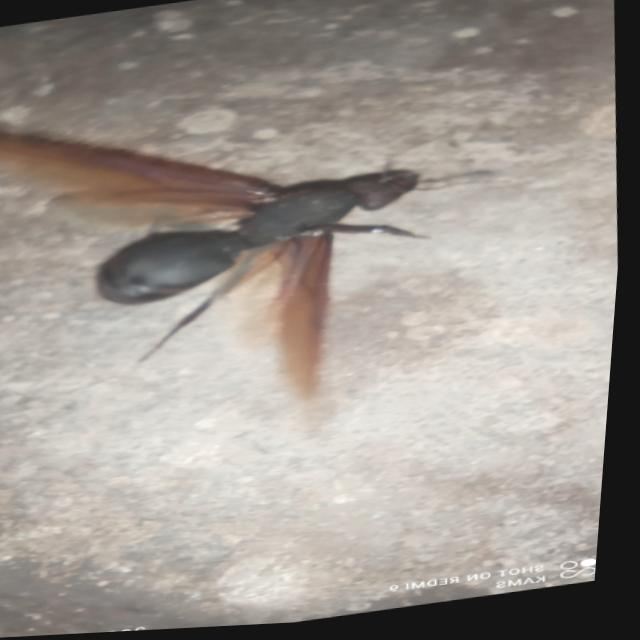Alive-Female-Alate: (0, 55, 528, 485)
